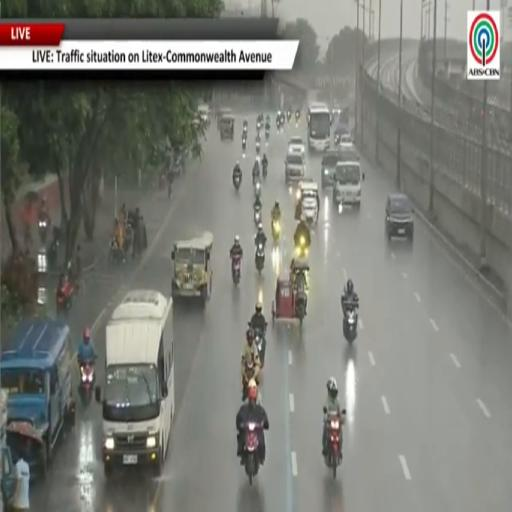bus: (95, 291, 175, 475), (308, 104, 330, 151)
car: (386, 194, 414, 241), (321, 150, 340, 188), (285, 153, 305, 184), (288, 136, 305, 155), (339, 134, 353, 150)
jeepney: (172, 232, 212, 302), (0, 390, 16, 502), (216, 108, 232, 130), (220, 115, 234, 140)
motorcycle: (325, 410, 345, 478), (244, 423, 262, 485), (241, 361, 258, 402), (80, 361, 95, 404), (56, 280, 74, 313), (343, 308, 357, 343), (255, 329, 266, 367), (295, 286, 306, 324), (47, 236, 59, 269), (109, 237, 124, 263), (124, 218, 134, 252), (38, 216, 49, 244), (295, 236, 309, 258), (232, 256, 241, 285), (255, 244, 264, 273), (272, 219, 281, 243), (232, 174, 242, 191), (159, 172, 166, 189), (254, 208, 261, 225), (254, 181, 261, 198), (262, 163, 268, 179), (334, 134, 340, 146), (168, 182, 172, 199), (280, 114, 285, 126), (295, 110, 300, 121), (286, 110, 291, 121), (242, 125, 248, 134), (242, 138, 246, 151), (265, 127, 269, 140), (256, 142, 260, 154), (257, 121, 261, 131)
tricycle: (272, 259, 309, 324), (7, 421, 47, 478)
